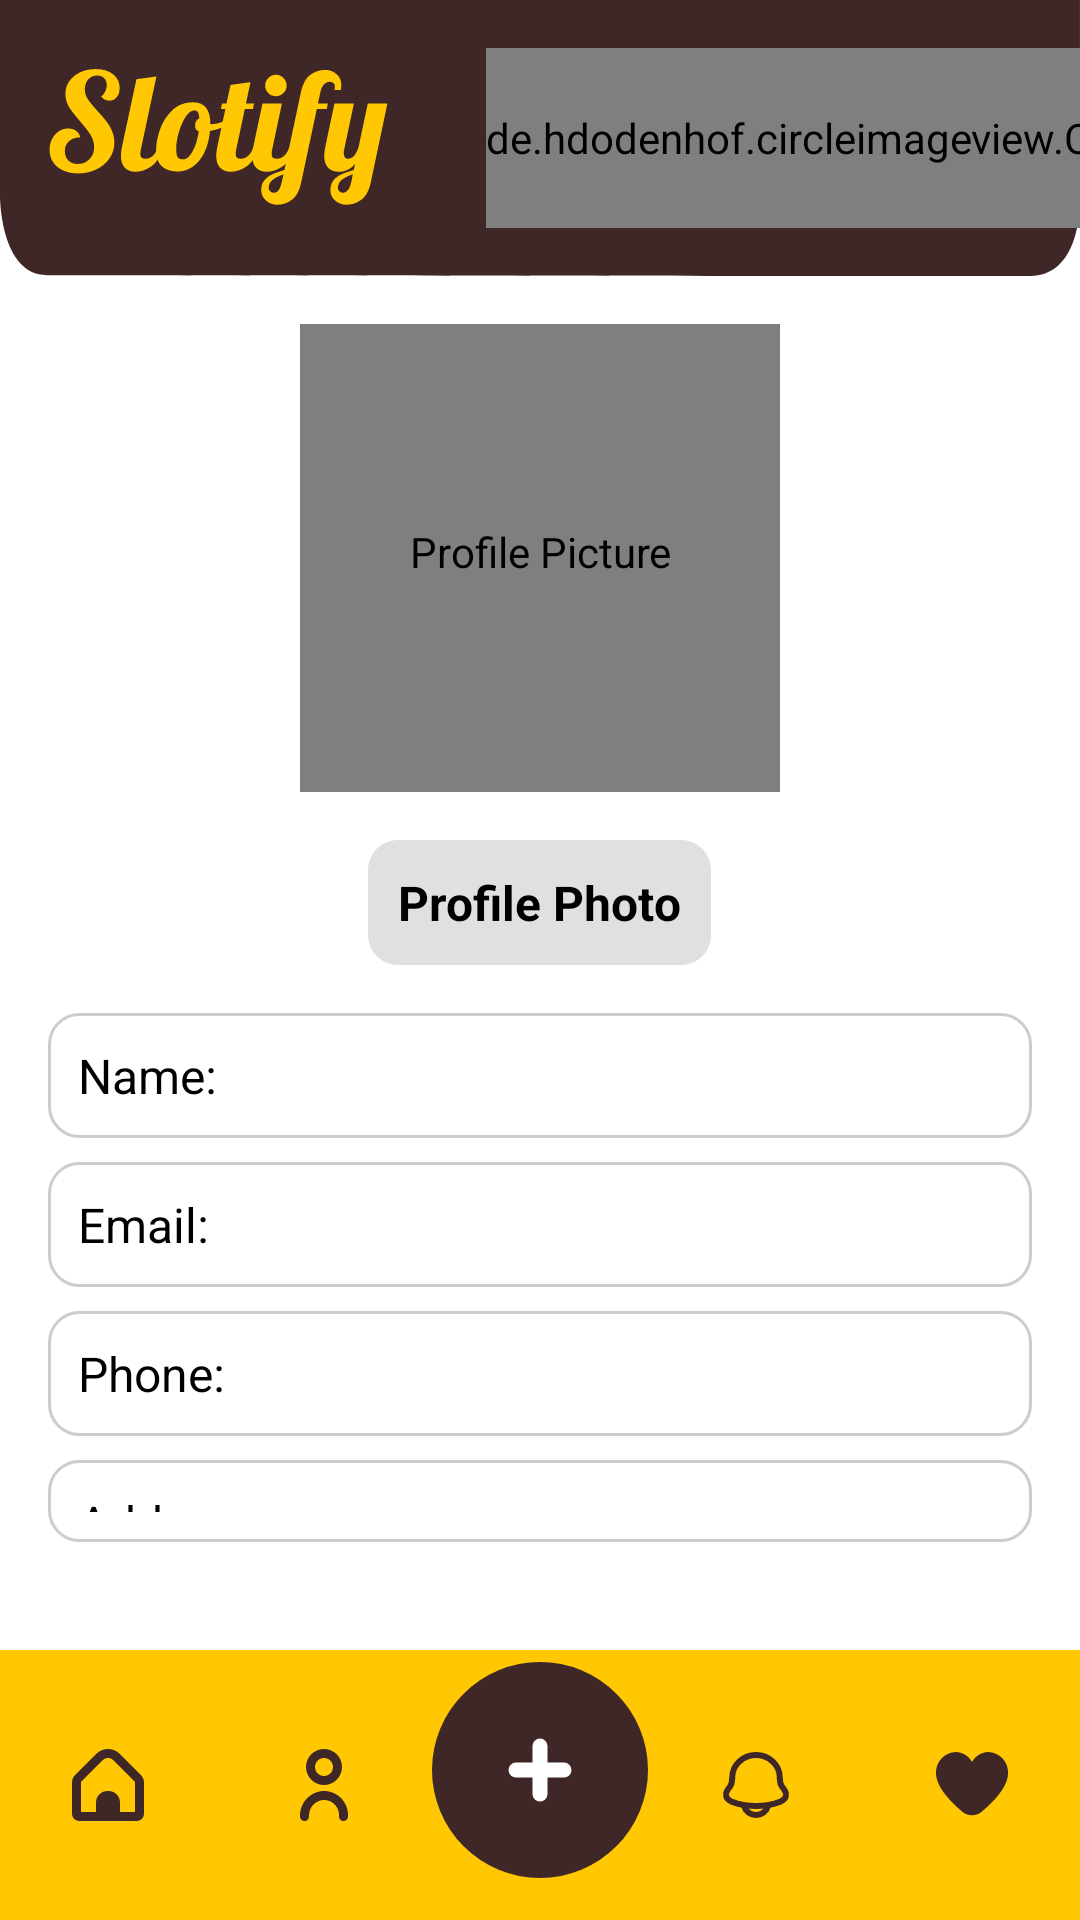

Locate icon controls on the screen. Image size 1080x1920, boxes as [x1, y1, x2, y2].
Add: [432, 1662, 648, 1878]
Favorite: [936, 1752, 1008, 1816]
Home: [72, 1749, 144, 1821]
Notification: [723, 1752, 789, 1818]
Profile: [300, 1749, 348, 1821]
